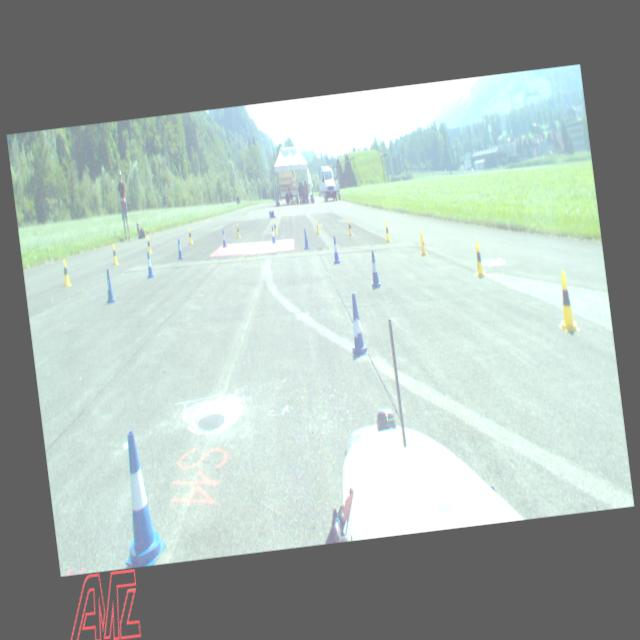blue_cone: (110, 428, 168, 568), (345, 292, 368, 356), (367, 250, 381, 288), (102, 268, 116, 303), (330, 235, 340, 264), (144, 252, 155, 278), (302, 227, 310, 249), (176, 238, 183, 258), (220, 228, 227, 246), (270, 225, 276, 243)
yellow_cone: (552, 270, 579, 332), (472, 240, 485, 277), (60, 256, 72, 286), (418, 228, 428, 256), (383, 220, 391, 242), (346, 218, 354, 236), (111, 244, 118, 264), (146, 235, 152, 252), (187, 227, 193, 243), (234, 222, 240, 238), (314, 218, 320, 234), (272, 220, 278, 235)
